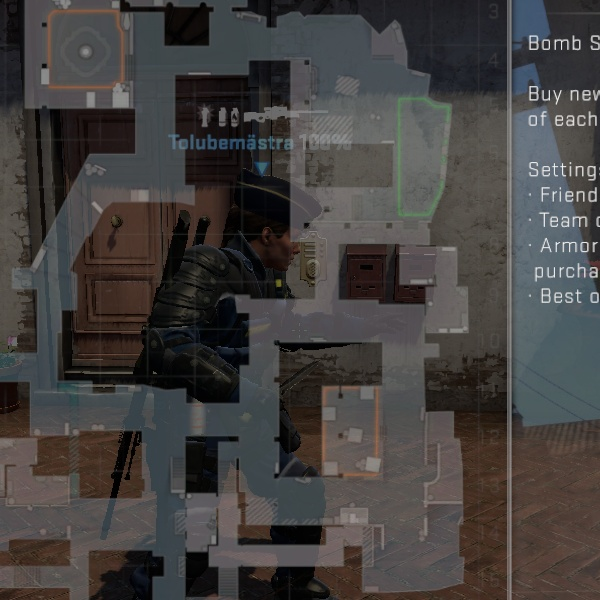ct_head: (210, 171, 312, 273)
